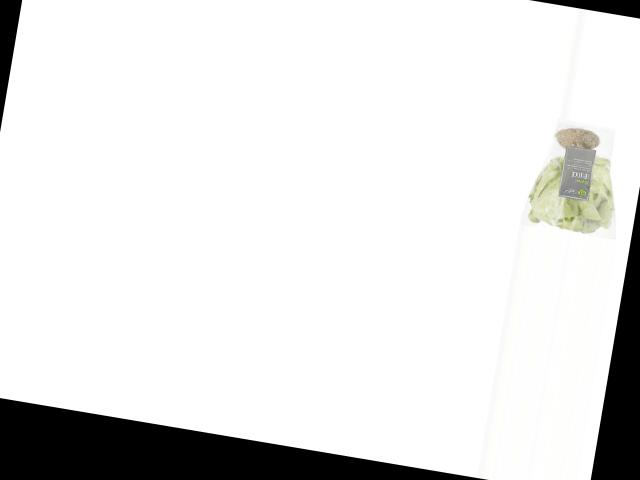lettuce: (521, 115, 631, 239)
